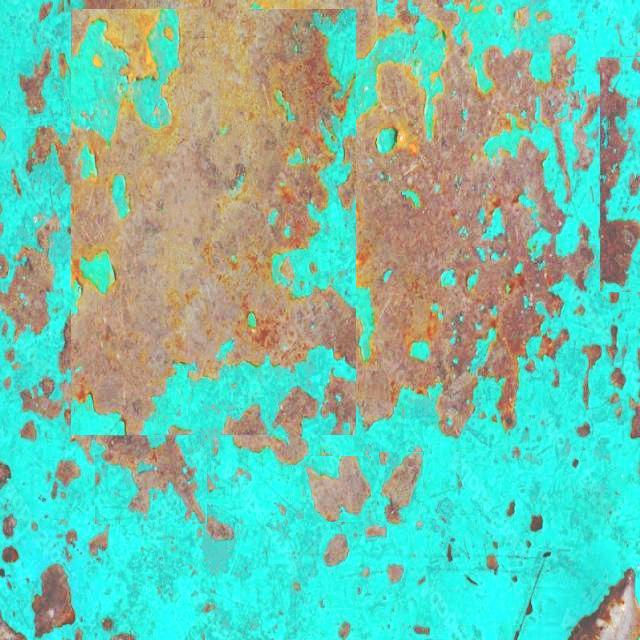Corrosion: (66, 0, 356, 435), (355, 36, 595, 436), (97, 428, 233, 540), (598, 56, 640, 285), (0, 214, 59, 339), (224, 388, 319, 464), (256, 0, 378, 56), (0, 248, 54, 339), (570, 570, 640, 640), (308, 456, 371, 522), (32, 564, 75, 638), (383, 450, 423, 524), (602, 220, 640, 286), (321, 374, 357, 435), (19, 48, 51, 114), (19, 376, 63, 419), (576, 94, 600, 170), (552, 124, 573, 201), (414, 0, 460, 35), (27, 126, 59, 172), (583, 344, 603, 409), (538, 328, 571, 359), (324, 534, 349, 567), (55, 460, 80, 487), (88, 528, 108, 557), (607, 324, 620, 364), (1, 514, 16, 539), (612, 368, 628, 389), (388, 565, 405, 584), (632, 400, 640, 439), (19, 422, 36, 440), (1, 546, 18, 564), (0, 462, 10, 489), (366, 526, 387, 538), (487, 556, 500, 575), (578, 422, 592, 438), (65, 530, 77, 547), (532, 516, 544, 532), (339, 623, 350, 640), (466, 576, 479, 587), (447, 544, 454, 563), (508, 502, 516, 517)
